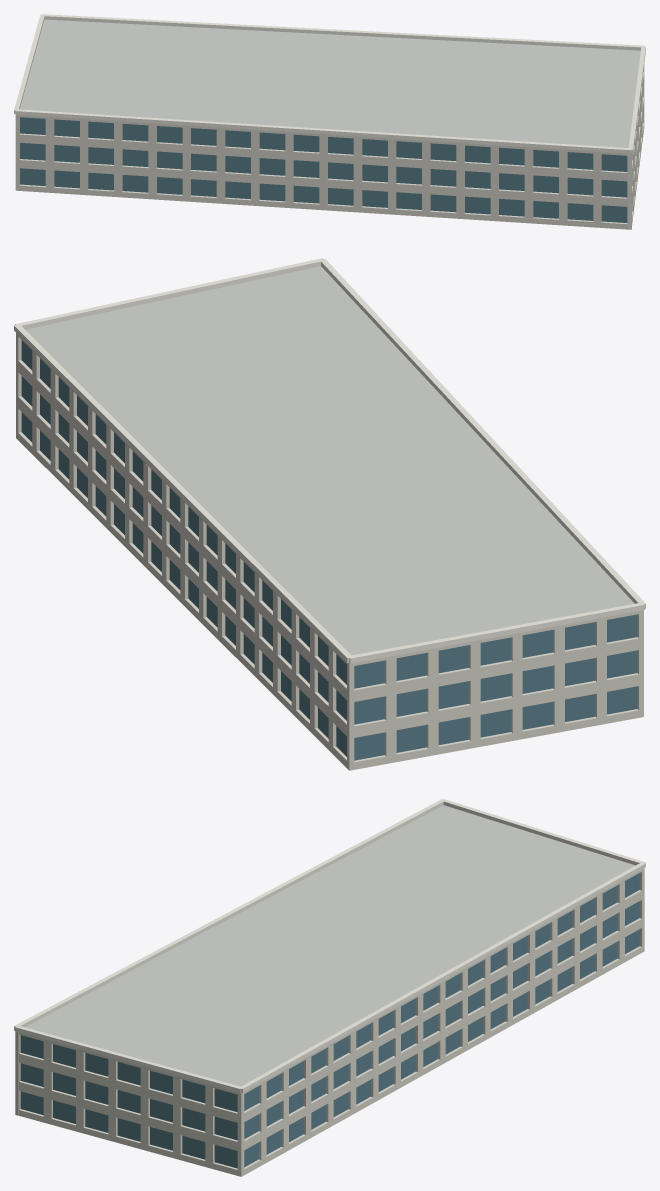
The model's file is sb_1556523916.far.glb.
3 views of the same model, one above another, from view 1: azimuth 30°, elevation 25°; view 2: azimuth 150°, elevation 25°; view 3: azimuth 270°, elevation 25° (orthographic). The views are drawn at different scales.
Parts seen in each view (by area): view 1: roof, wall, glass, trim; view 2: roof, wall, glass, trim; view 3: roof, wall, glass, trim.
Boxes of the visible parts, bbox=[...] form: roof: bbox=[20, 19, 640, 147]; wall: bbox=[15, 65, 644, 229]; glass: bbox=[20, 117, 627, 222]; trim: bbox=[14, 14, 645, 153]; roof: bbox=[25, 266, 634, 655]; wall: bbox=[16, 333, 643, 770]; glass: bbox=[21, 340, 637, 760]; trim: bbox=[14, 258, 645, 663]; roof: bbox=[25, 805, 635, 1086]; wall: bbox=[15, 868, 644, 1176]; glass: bbox=[20, 873, 639, 1168]; trim: bbox=[14, 799, 645, 1092].
Size of the model in its own units: 68.55 by 9.74 by 63.1.
